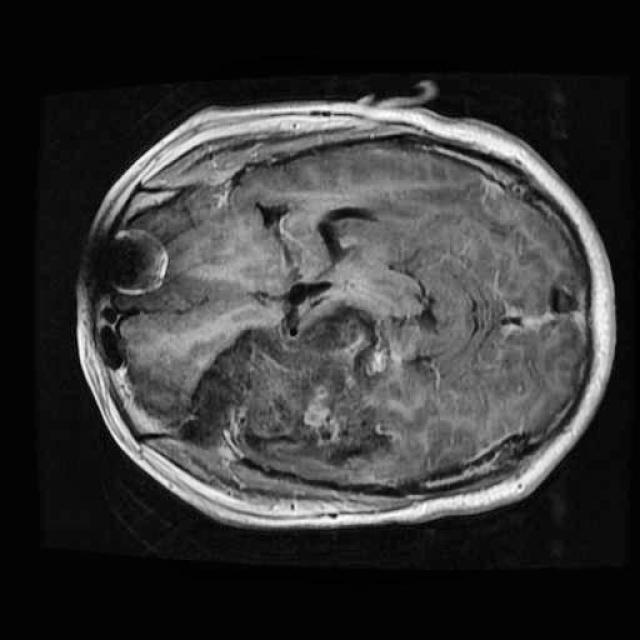Tumor: (165, 294, 406, 493)
